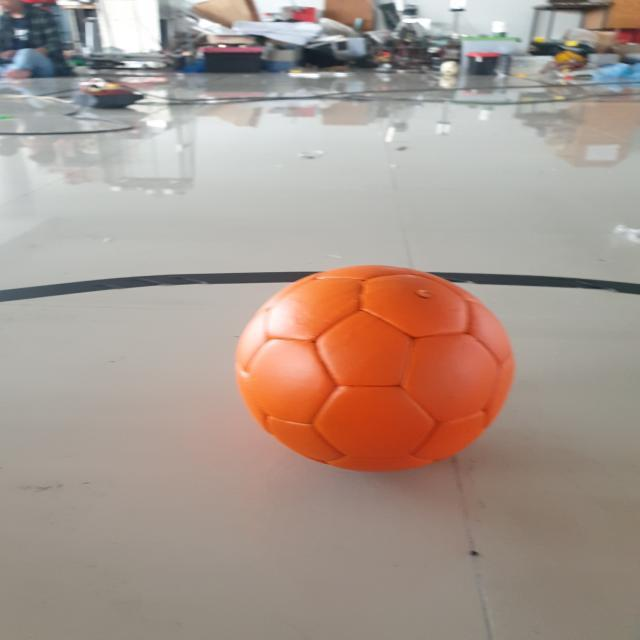bola: (223, 259, 526, 478)
